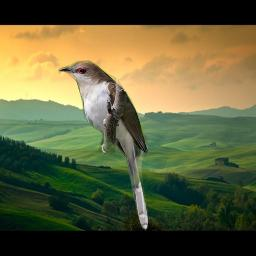Cuckoo: (57, 60, 149, 231)
